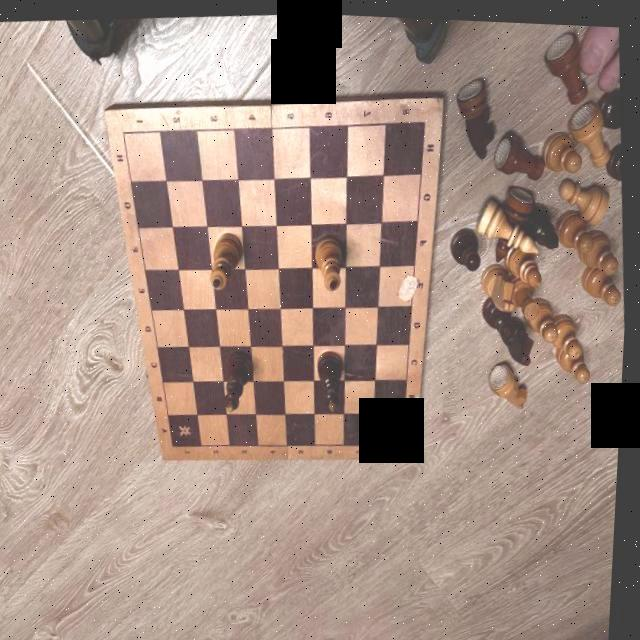chess-table-corners: (120, 128, 128, 136), (423, 115, 428, 122), (174, 442, 180, 447), (404, 438, 409, 444)
